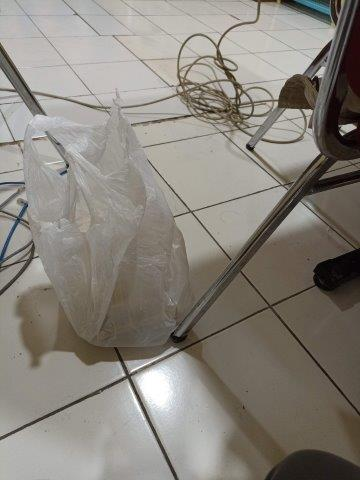plastik: (23, 115, 191, 348)
